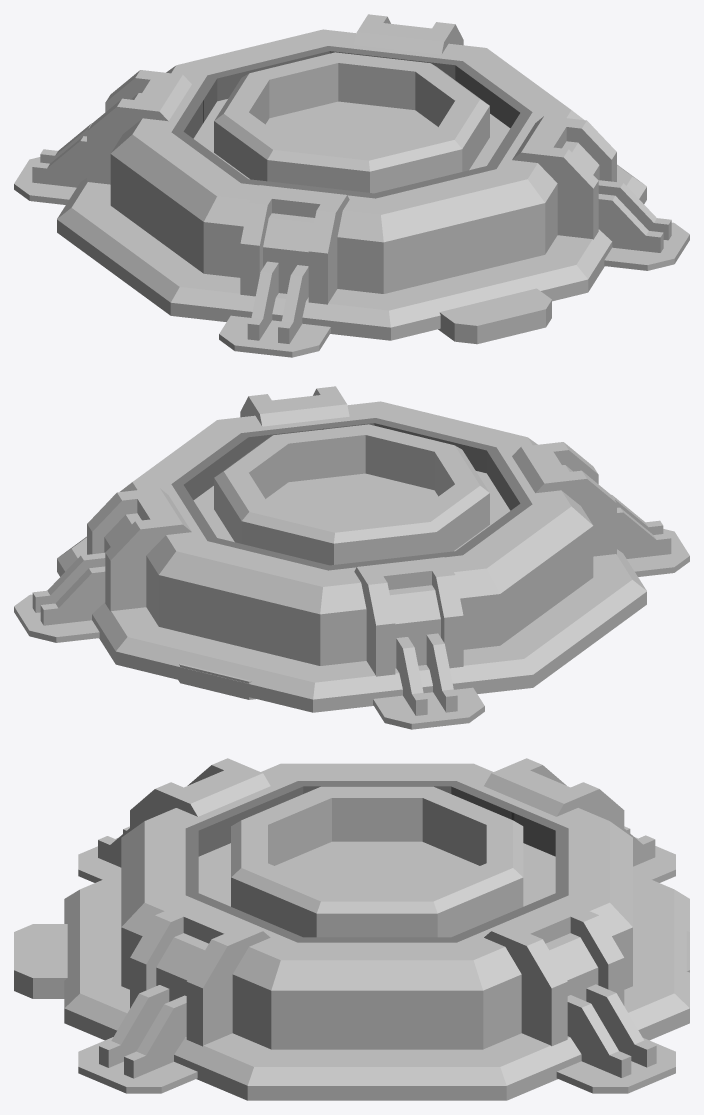
The model's file is SM_Sentry_Base_1.fbx.
3 views of the same model, one above another, from view 1: azimuth 30°, elevation 25°; view 2: azimuth 150°, elevation 25°; view 3: azimuth 270°, elevation 25° (orthographic). The views are drawn at different scales.
Visible parts, largest first — view 1: SM_Sentry_Base_1; view 2: SM_Sentry_Base_1; view 3: SM_Sentry_Base_1.
Part boxes in pixels (x1,y1,x2,y2): SM_Sentry_Base_1: (14,14,689,357); SM_Sentry_Base_1: (14,386,689,729); SM_Sentry_Base_1: (14,758,689,1100).
Size of the model in its own units: 142 by 32.02 by 153.
